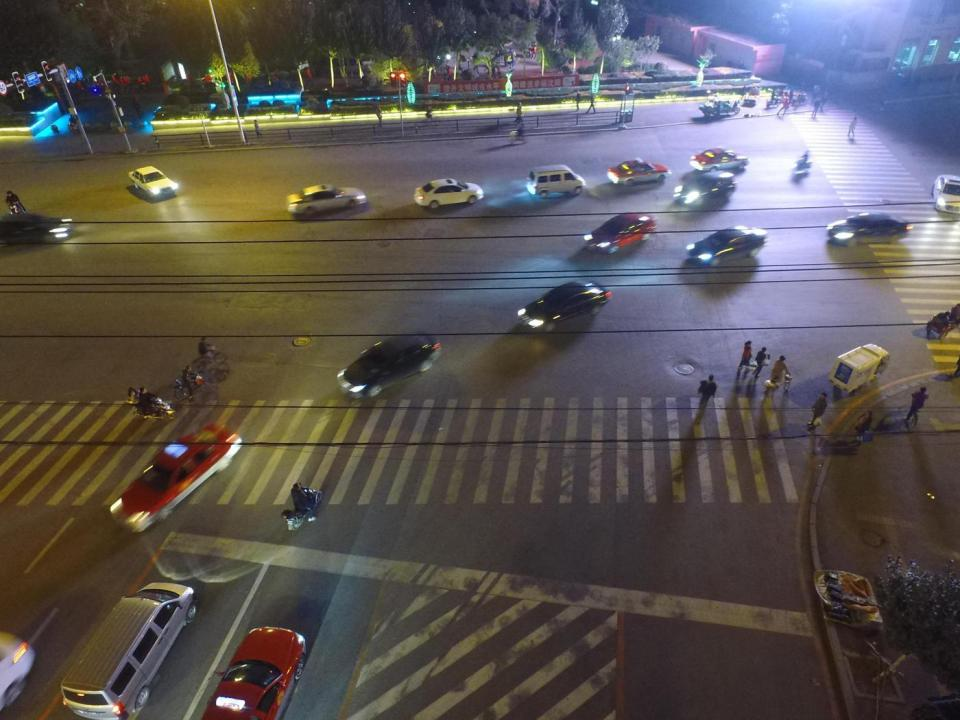car: (113, 421, 244, 533), (200, 624, 309, 718), (337, 328, 443, 400), (514, 277, 610, 336), (687, 225, 764, 270), (584, 212, 655, 258), (826, 209, 914, 246), (673, 167, 739, 213), (283, 184, 364, 217), (0, 210, 69, 245), (413, 178, 482, 209), (127, 165, 179, 202), (605, 158, 669, 188), (691, 146, 750, 176), (932, 172, 960, 213)
van: (61, 576, 194, 720), (526, 164, 585, 198)
